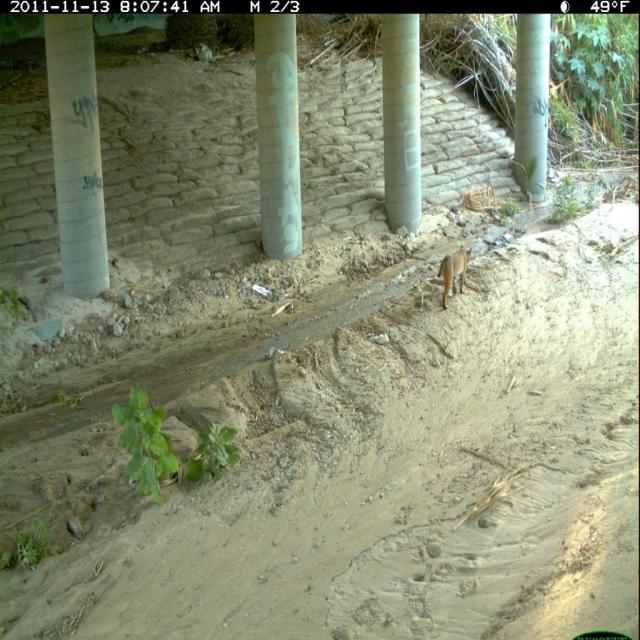bobcat: (434, 241, 478, 316)
